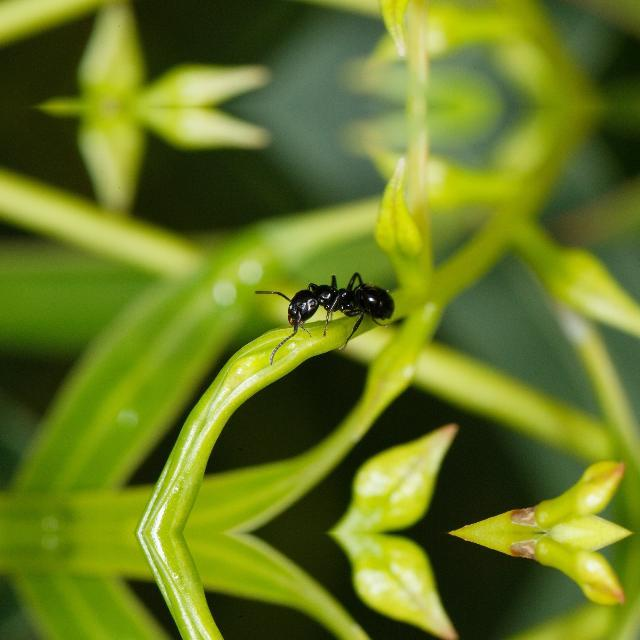Colobopsis: (256, 266, 404, 342)
